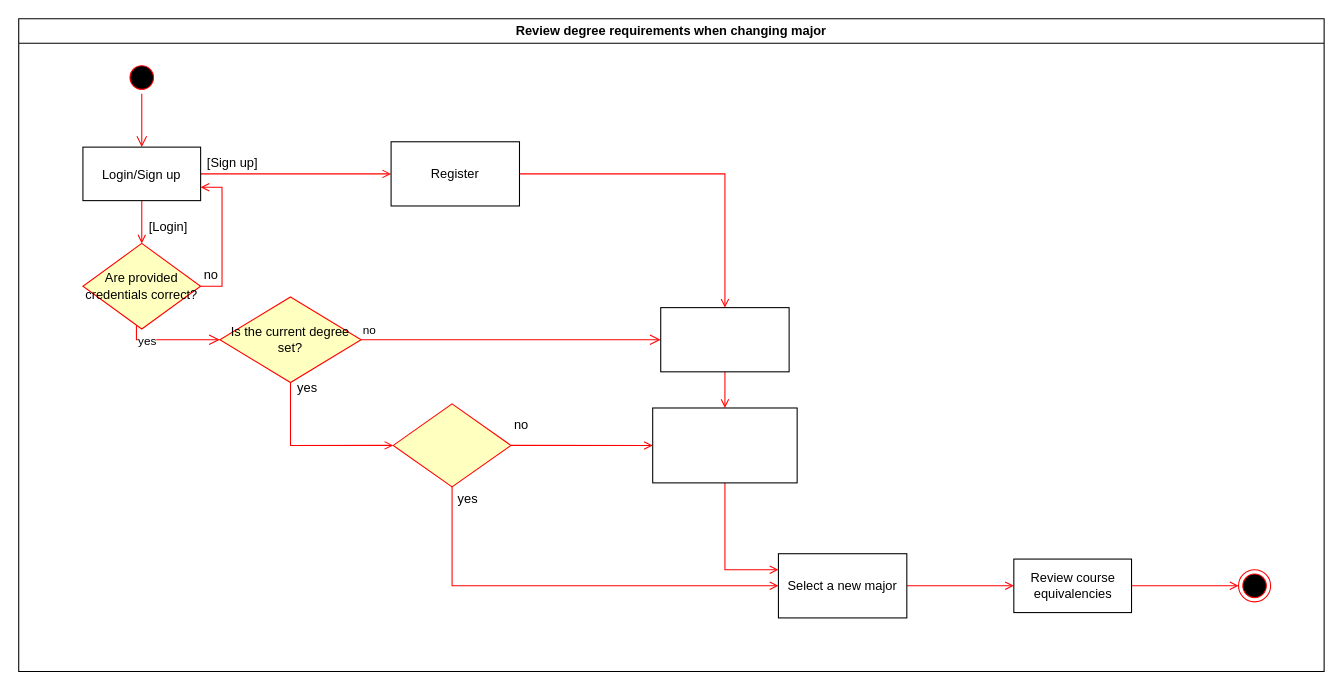
This 1343x690 diagram has some shape labels left out. Each missing label, with the centre of its shape:
Are previously taken courses selected?: the point at 451,445
Degree selection: the point at 724,339
Select previously taken courses: the point at 724,445
